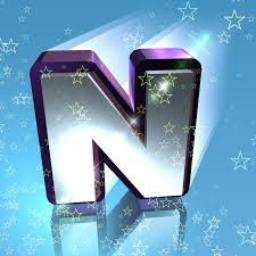n: (34, 63, 200, 207)
